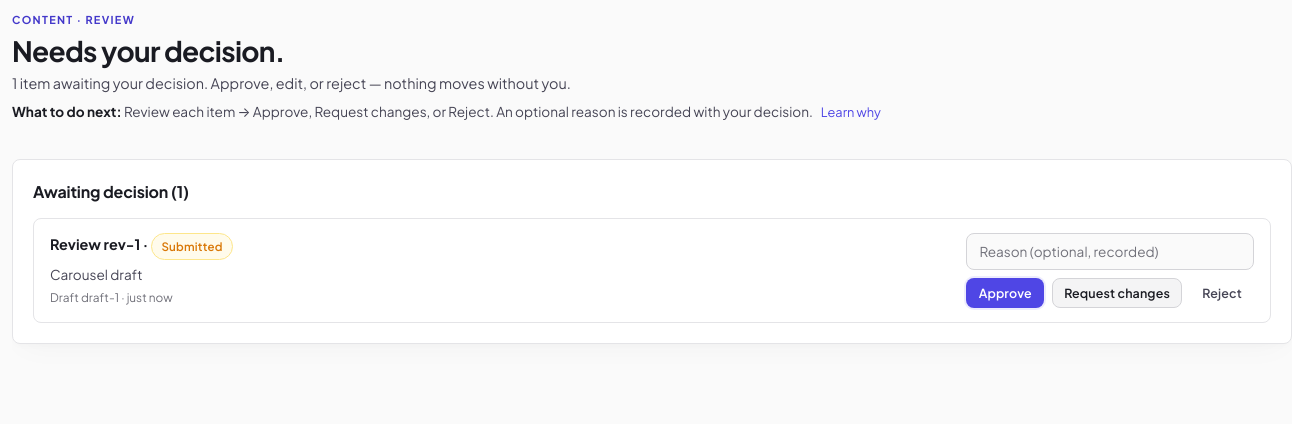
Test: ApprovalsPage › approves a submitted draft from the queue
The width and height of the screenshot is (1292, 424).
Expected: the text "1 item awaiting your decision" is shown, [12, 74, 571, 92]
Click the button with aria-label "approve review" at (1005, 293), box [966, 278, 1044, 308]
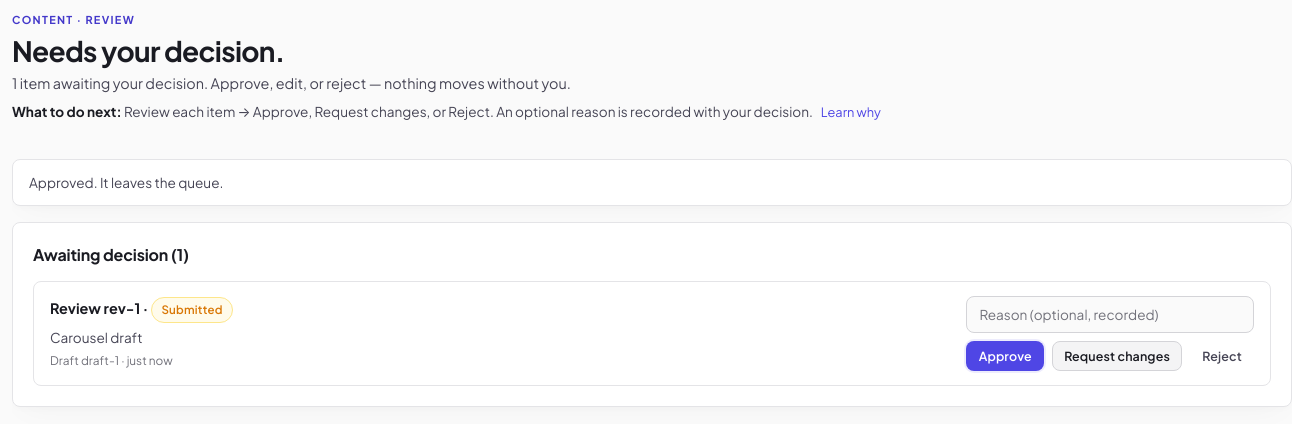
Expected: the text "Approved. It leaves the queue." is shown, [29, 174, 223, 191]
